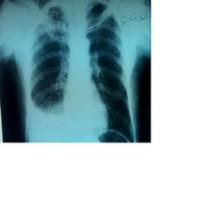tuberculosis: (23, 0, 140, 143)
